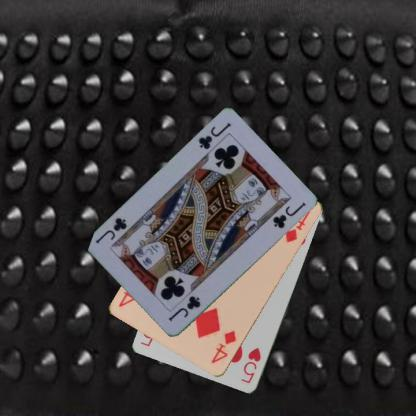4d: (208, 328, 238, 365)
5h: (239, 345, 263, 385)
Jc: (193, 121, 232, 152), (166, 293, 202, 323)
